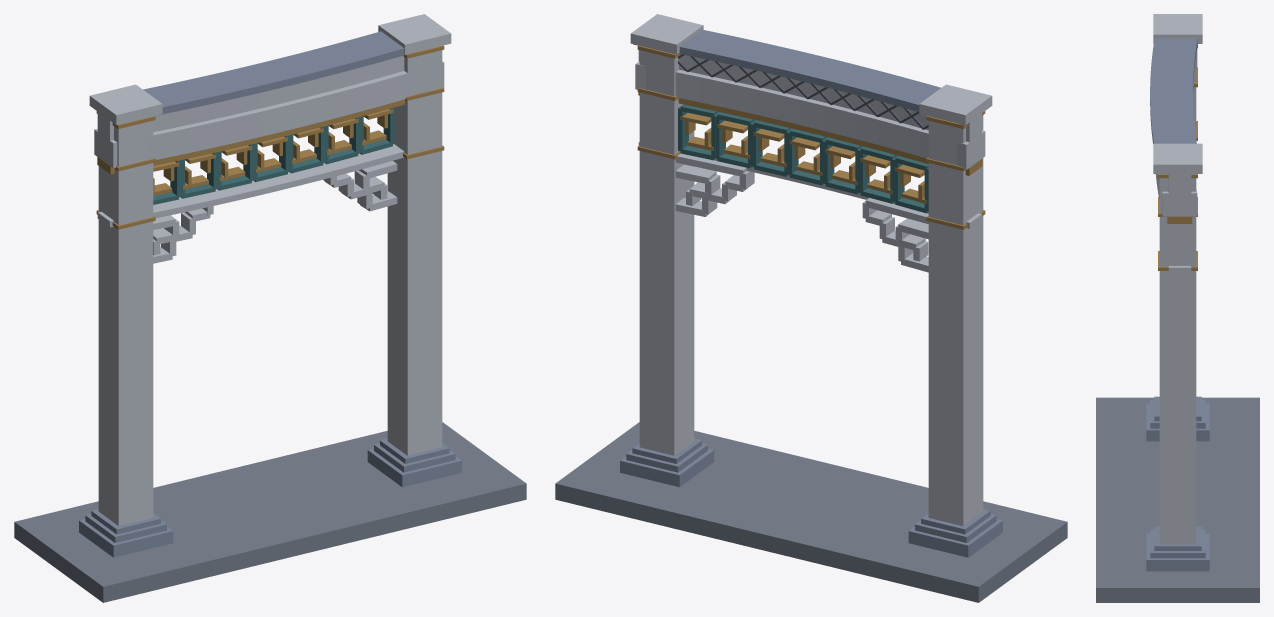
The model's file is NOV2_CP01_material.glb.
3 renders of one model, left to right at view 1: azimuth 30°, elevation 25°; view 2: azimuth 150°, elevation 25°; view 3: azimuth 270°, elevation 25°, orthographic. The views are drawn at different scales.
Visible parts, largest first — view 1: FLOOR_finite_module_cut, COL_0_shaft, COL_1_shaft, BEAM_main_solid, BEAM_top_cap, BEAM_cross_band_backing, BEAM_lower_rail, COL_0_capital, COL_1_capital, BEAM_grille_top, COL_1_base_0, COL_0_base_0 (+2 smaller); view 2: FLOOR_finite_module_cut, COL_0_shaft, COL_1_shaft, BEAM_main_solid, BEAM_top_cap, BEAM_cross_band_backing, COL_0_capital, COL_1_capital, BEAM_grille_top, COL_1_base_0, COL_0_base_0, COL_1_base_1 (+3 smaller); view 3: FLOOR_finite_module_cut, COL_1_shaft, BEAM_top_cap, COL_1_capital, COL_0_capital, COL_1_base_0, BEAM_main_solid, COL_1_base_1, COL_0_base_0, COL_1_base_2, BEAM_cross_band_backing, COL_0_base_1 (+2 smaller).
Boxes of the visible parts, x1,y1,x2,y2 form: FLOOR_finite_module_cut: (14,422,526,602); COL_0_shaft: (98,121,153,525); COL_1_shaft: (387,50,442,455); BEAM_main_solid: (94,61,444,168); BEAM_top_cap: (143,31,409,115); BEAM_cross_band_backing: (97,56,404,140); BEAM_lower_rail: (97,144,404,227); COL_0_capital: (89,84,162,125); COL_1_capital: (378,14,451,54); BEAM_grille_top: (97,99,404,174); COL_1_base_0: (367,448,461,487); COL_0_base_0: (79,519,173,557); FLOOR_finite_module_cut: (555,422,1067,602); COL_0_shaft: (928,115,983,525); COL_1_shaft: (639,50,694,455); BEAM_main_solid: (635,62,985,169); BEAM_top_cap: (633,30,964,125); BEAM_cross_band_backing: (638,50,981,142); COL_0_capital: (919,84,992,125); COL_1_capital: (630,14,703,54); BEAM_grille_top: (638,92,982,175); COL_1_base_0: (620,448,714,487); COL_0_base_0: (908,519,1002,557); COL_1_base_1: (626,443,707,472); FLOOR_finite_module_cut: (1096,397,1259,602); COL_1_shaft: (1159,174,1196,544); BEAM_top_cap: (1150,38,1197,143); COL_1_capital: (1153,143,1202,173); COL_0_capital: (1153,14,1202,43); COL_1_base_0: (1146,533,1209,571); BEAM_main_solid: (1155,48,1197,216); COL_1_base_1: (1150,529,1205,558); COL_0_base_0: (1146,403,1209,441); COL_1_base_2: (1154,526,1201,550); BEAM_cross_band_backing: (1168,174,1191,193); COL_0_base_1: (1150,399,1205,428).
Size of the model in its own units: 4.4 by 4.51 by 1.6.
